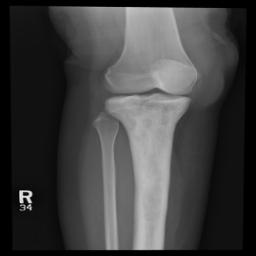cancer: (112, 109, 178, 247)
